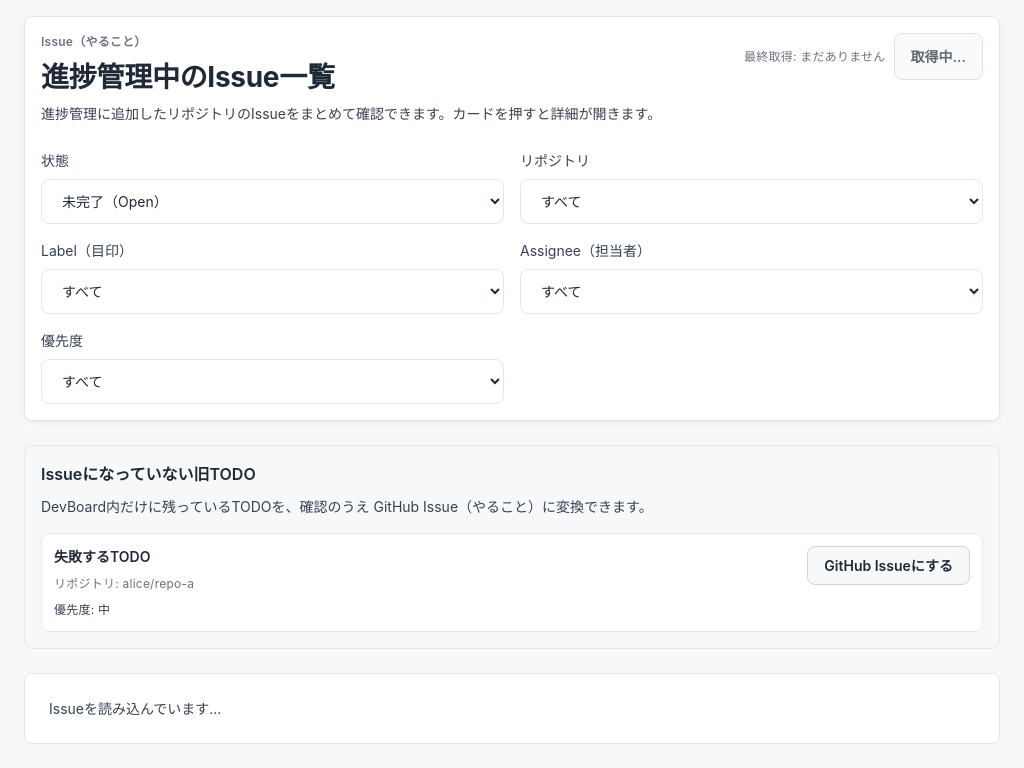
Test: IssuesHome › legacy unlinked todos › keeps the todo unlinked and shows an error when createIssue fails
Click the button "GitHub Issueにする" at (889, 565), box [807,546,970,585]
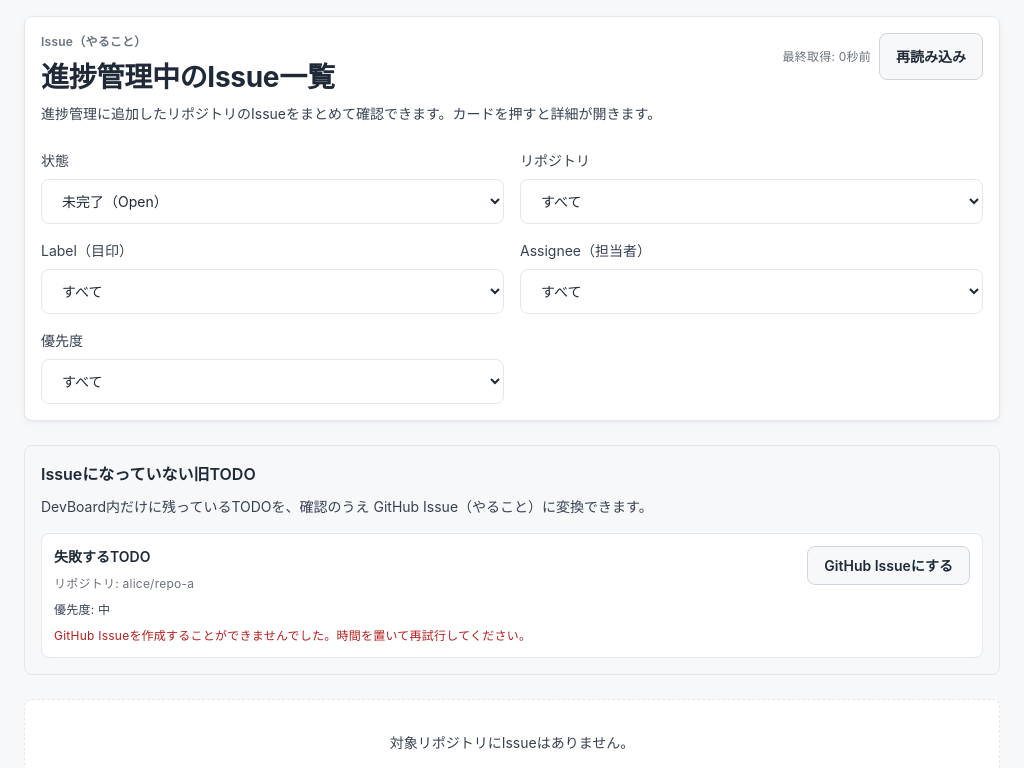
Check: the text "失敗するTODO" is shown, box [54,546,150,567]
Check: the message is shown, box [54,627,531,645]
